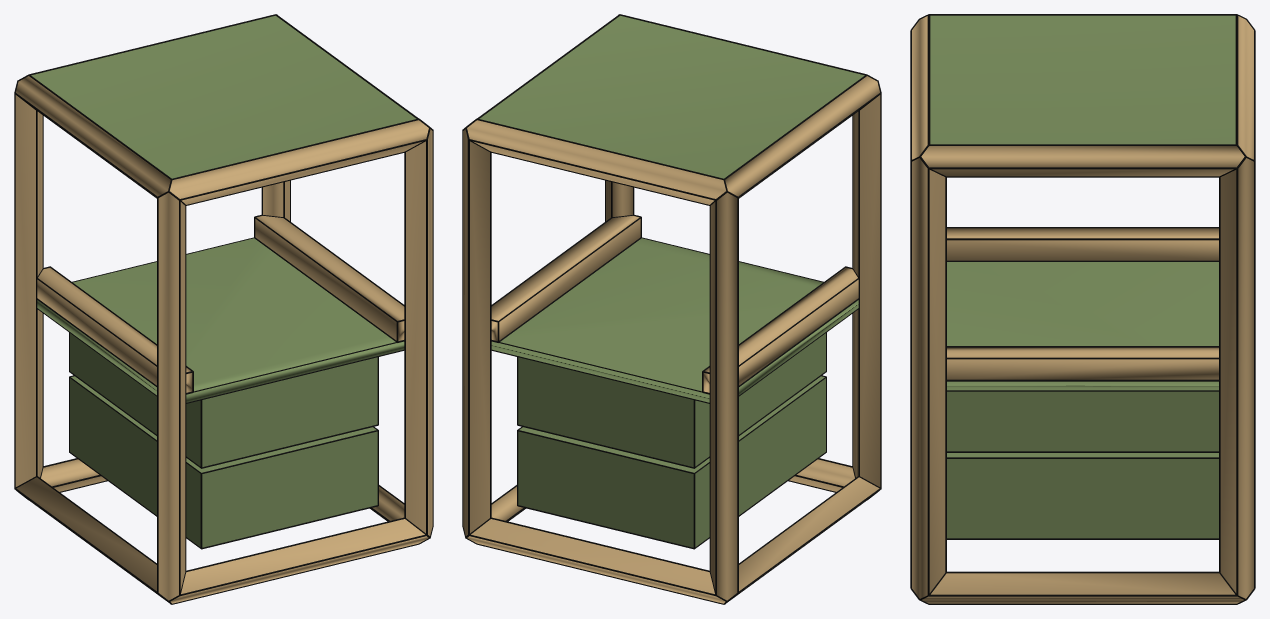
File: 003-table-chevet-grande.glb
3 renders of one model, left to right at view 1: azimuth 30°, elevation 25°; view 2: azimuth 150°, elevation 25°; view 3: azimuth 270°, elevation 25°, orthographic. The views are drawn at different scales.
Visible parts, largest first — view 1: panneau-dessus_exterieur, tablette-plate-mod-0, mod-drawer-0, mod-drawer-1, arete-Z0, arete-Z2, arete-Z1, arete-X2, arete-X0, tablette-traverse-right-mod-0, tablette-traverse-left-mod-0, arete-Y2 (+17 smaller); view 2: panneau-dessus_exterieur, tablette-plate-mod-0, mod-drawer-0, mod-drawer-1, arete-Z2, arete-Z0, arete-Z3, arete-X3, arete-X1, tablette-traverse-right-mod-0, tablette-traverse-left-mod-0, arete-Y2 (+17 smaller); view 3: panneau-dessus_exterieur, tablette-plate-mod-0, mod-drawer-0, mod-drawer-1, arete-Z1, arete-Z3, arete-Y3, arete-Y1, tablette-traverse-left-mod-0, tablette-traverse-right-mod-0, arete-wire-Z1, arete-wire-Z3 (+12 smaller).
Part boxes in pixels (left/top/right/bottom): panneau-dessus_exterieur: left=31, top=15, right=416, bottom=178; tablette-plate-mod-0: left=37, top=238, right=404, bottom=402; mod-drawer-0: left=70, top=376, right=377, bottom=547; mod-drawer-1: left=70, top=333, right=377, bottom=466; arete-Z0: left=158, top=192, right=185, bottom=600; arete-Z2: left=15, top=95, right=42, bottom=486; arete-Z1: left=406, top=129, right=432, bottom=535; arete-X2: left=170, top=120, right=428, bottom=204; arete-X0: left=170, top=519, right=428, bottom=603; tablette-traverse-right-mod-0: left=255, top=216, right=404, bottom=340; tablette-traverse-left-mod-0: left=37, top=268, right=192, bottom=392; arete-Y2: left=16, top=76, right=170, bottom=196; panneau-dessus_exterieur: left=479, top=15, right=864, bottom=178; tablette-plate-mod-0: left=491, top=238, right=858, bottom=402; mod-drawer-0: left=518, top=376, right=825, bottom=547; mod-drawer-1: left=518, top=333, right=825, bottom=466; arete-Z2: left=710, top=192, right=737, bottom=600; arete-Z0: left=853, top=95, right=880, bottom=486; arete-Z3: left=463, top=129, right=489, bottom=535; arete-X3: left=467, top=120, right=725, bottom=204; arete-X1: left=467, top=519, right=725, bottom=603; tablette-traverse-right-mod-0: left=491, top=216, right=640, bottom=340; tablette-traverse-left-mod-0: left=703, top=268, right=858, bottom=392; arete-Y2: left=725, top=76, right=879, bottom=196; panneau-dessus_exterieur: left=930, top=15, right=1235, bottom=144; tablette-plate-mod-0: left=947, top=262, right=1218, bottom=390; mod-drawer-0: left=947, top=453, right=1218, bottom=538; mod-drawer-1: left=947, top=391, right=1218, bottom=451; arete-Z1: left=912, top=158, right=945, bottom=598; arete-Z3: left=1220, top=158, right=1253, bottom=598; arete-Y3: left=921, top=146, right=1244, bottom=176; arete-Y1: left=922, top=573, right=1243, bottom=603; tablette-traverse-left-mod-0: left=947, top=228, right=1218, bottom=260; tablette-traverse-right-mod-0: left=947, top=347, right=1218, bottom=379; arete-wire-Z1: left=910, top=156, right=946, bottom=595; arete-wire-Z3: left=1219, top=161, right=1255, bottom=595.
Bounding box in the file's own units: 0.4238 × 0.6238 × 0.4238.
